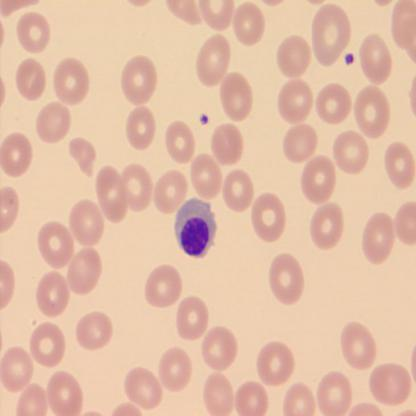NRC: (172, 196, 218, 260)
